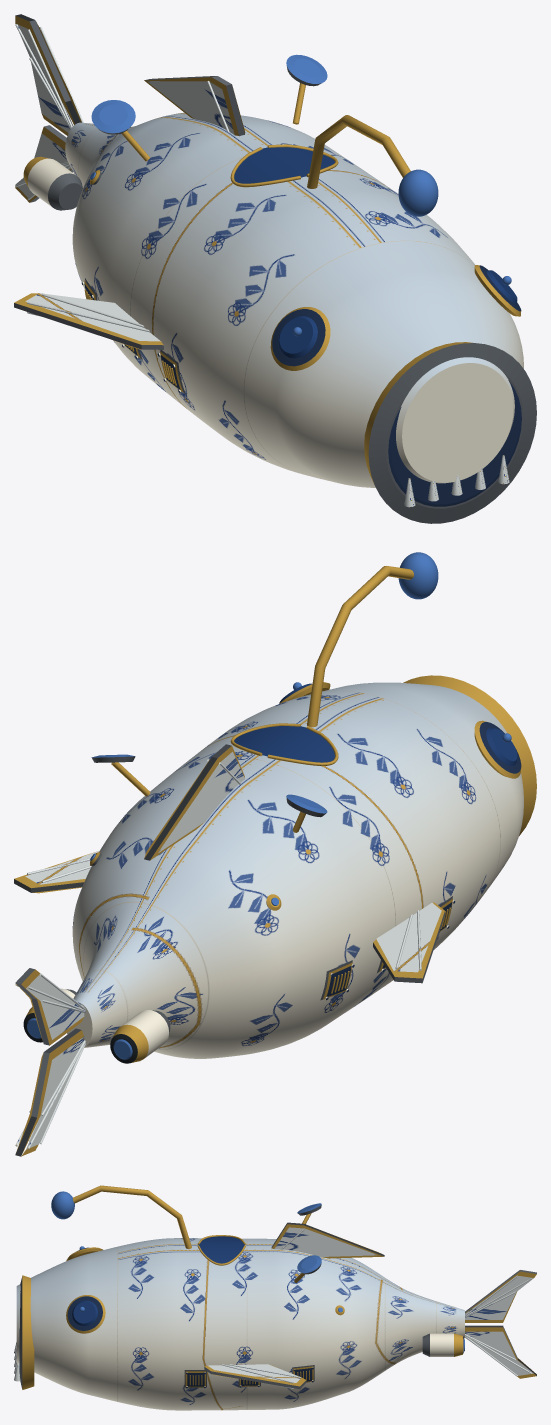
3 views of the same model, one above another, from view 1: azimuth 30°, elevation 25°; view 2: azimuth 150°, elevation 25°; view 3: azimuth 270°, elevation 25° (orthographic). The views are drawn at different scales.
Parts seen in each view (by area): view 1: anglerfish_hull; view 2: anglerfish_hull; view 3: anglerfish_hull.
Boxes of the visible parts, bbox=[...] form: anglerfish_hull: bbox=[14, 14, 536, 523]; anglerfish_hull: bbox=[14, 552, 536, 1156]; anglerfish_hull: bbox=[14, 1185, 536, 1410].
Bounding box in the file's own units: 9.08 × 7.72 × 17.
1 material, 1 textured.
